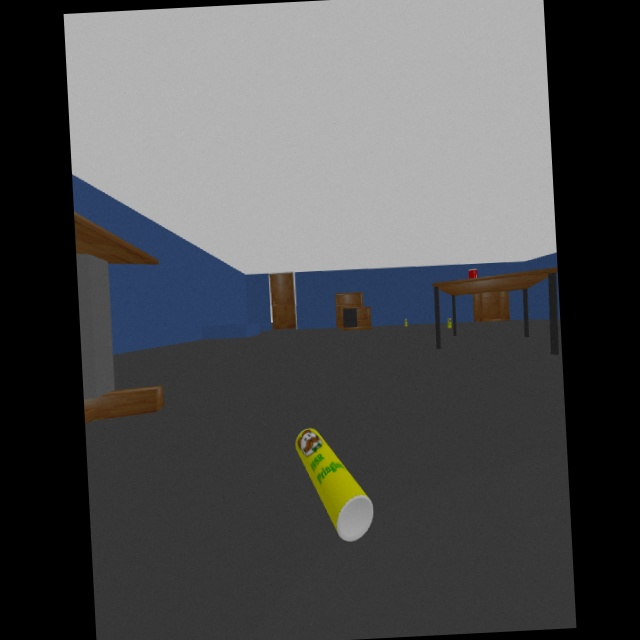chipsdose_gelb: (293, 427, 374, 543), (447, 317, 452, 328), (403, 318, 408, 328)
